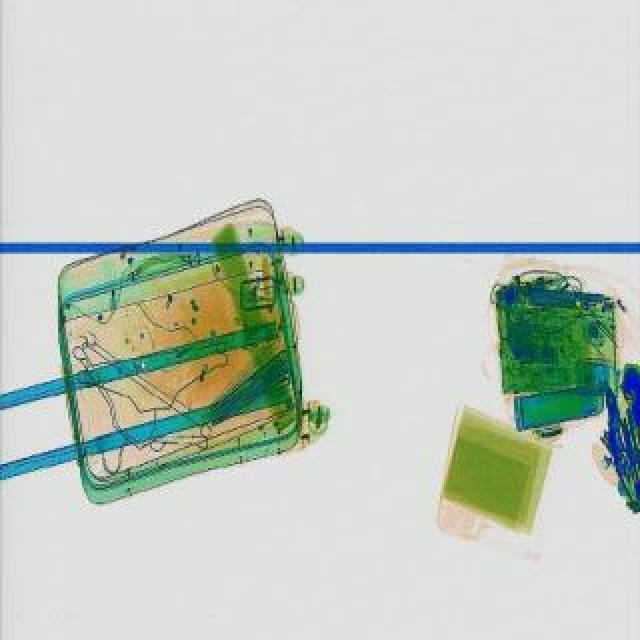wrench: (598, 384, 638, 468)
